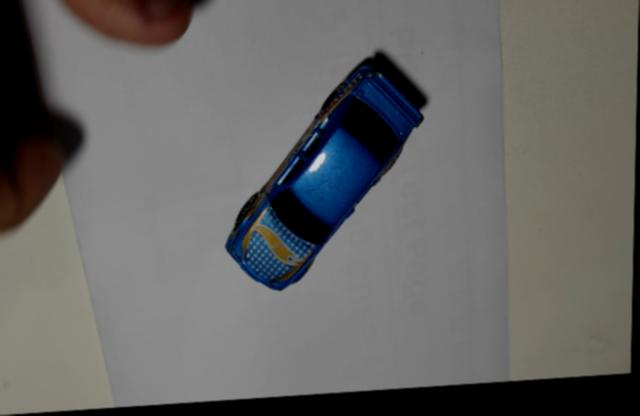04_MERZEDES: (226, 54, 429, 294)
